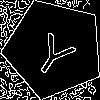Y: (29, 24, 83, 81)
